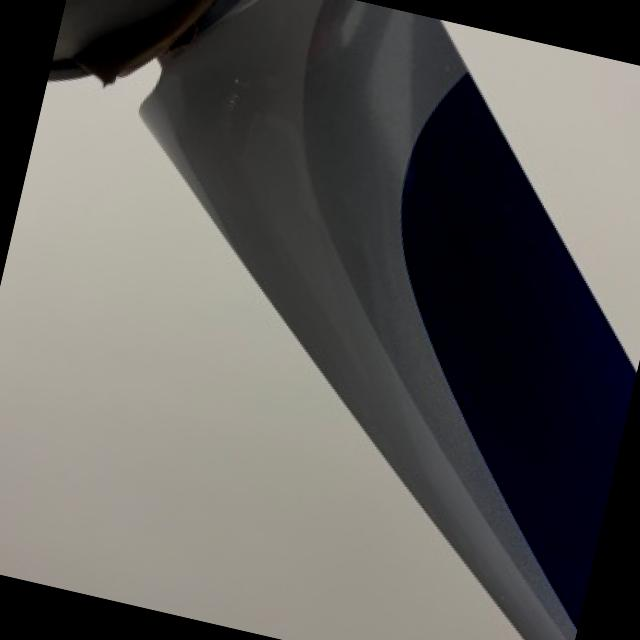healthy: (0, 60, 525, 640)
